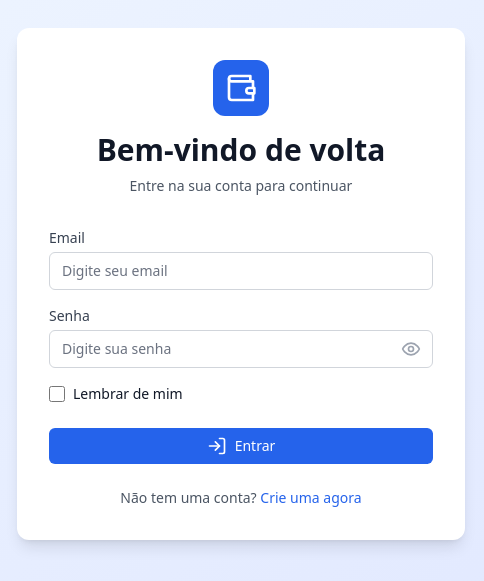
Test case: LoginPage › validates password minimum length
Step 1. Type "test@example.com" into the field labelled "Email" → (241, 271), box [49, 252, 433, 290]
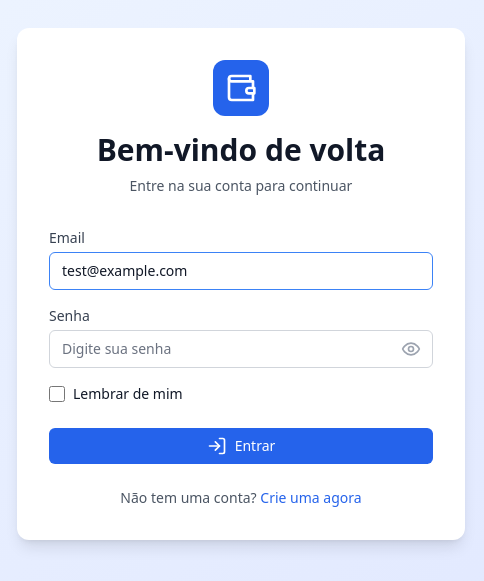
Step 2. Type "123" into the password field labelled "Senha" → (241, 349), box [49, 330, 433, 368]
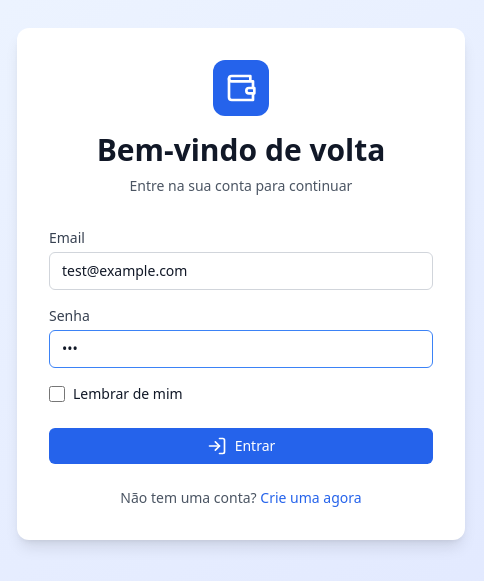
Step 3. Click the button "Entrar" → (241, 446), box [49, 428, 433, 464]
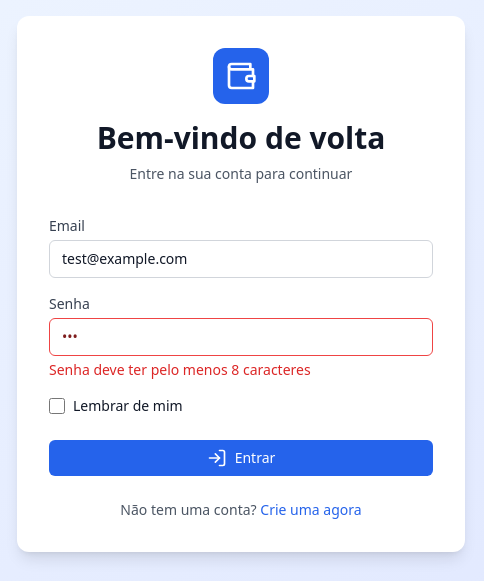
Check: the text "Senha deve ter pelo menos 8 caracteres" is shown, box [49, 360, 311, 379]
